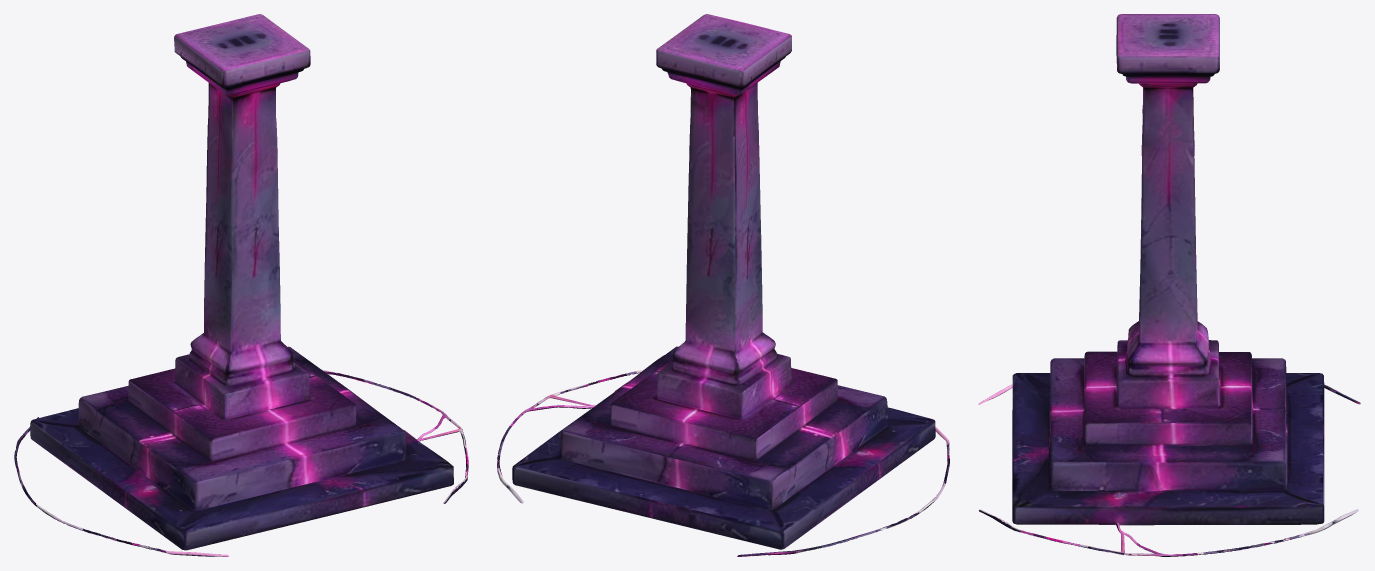
File: yggdrasil-shrine-urd-right.collider.glb
The picture shows the model from 3 angles, left to right: view 1: azimuth 30°, elevation 25°; view 2: azimuth 150°, elevation 25°; view 3: azimuth 270°, elevation 25°; orthographic projection.
Parts seen in each view (by area): view 1: temp_mesh.ply; view 2: temp_mesh.ply; view 3: temp_mesh.ply.
Boxes of the visible parts, x1=… form: temp_mesh.ply: x1=14, y1=14, x2=468, y2=556; temp_mesh.ply: x1=497, y1=14, x2=949, y2=556; temp_mesh.ply: x1=978, y1=14, x2=1360, y2=556.
Bounding box in the file's own units: 1.97 × 1.97 × 1.61.
1 material, 1 textured.
